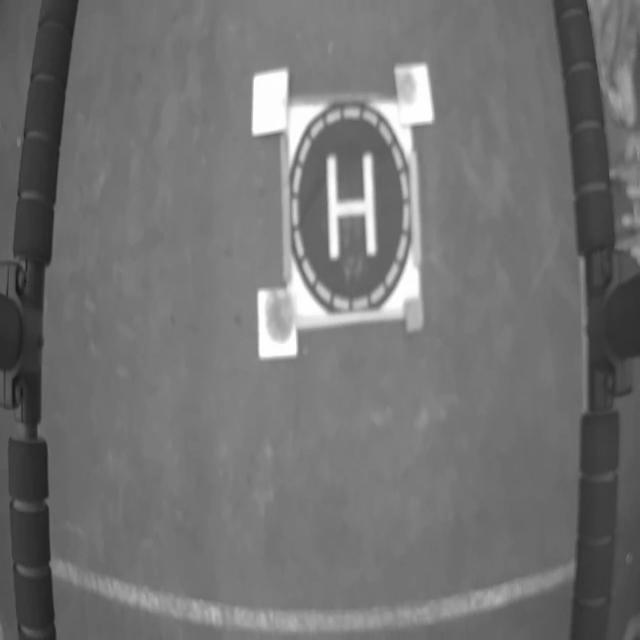Helipad: (326, 149, 380, 261)
